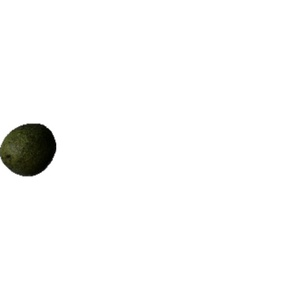abacate: (1, 120, 60, 180)
